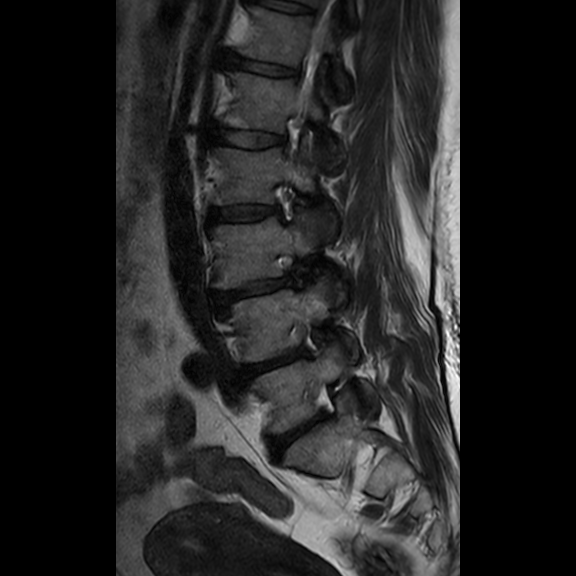RFS0: (263, 171, 314, 231)
RFS2: (281, 314, 329, 371)
RFS3: (265, 242, 314, 304)
